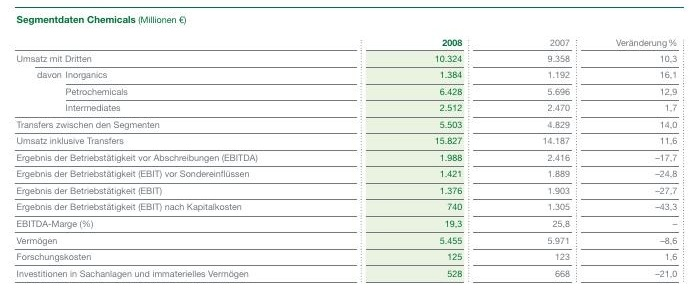table: (0, 0, 692, 293)
